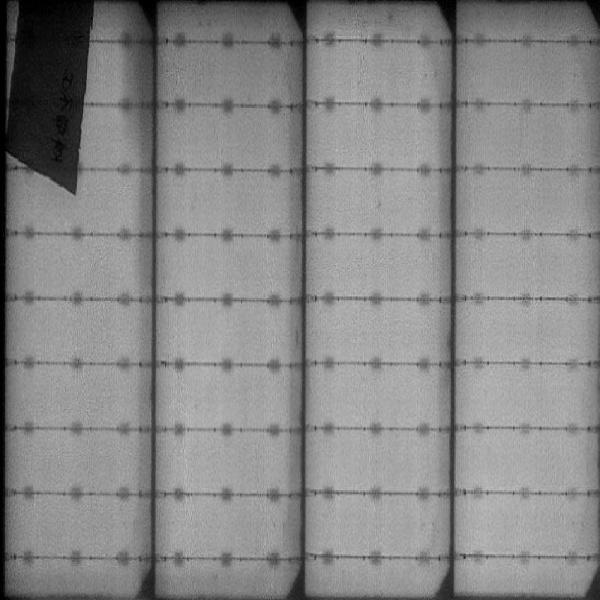broken: (7, 1, 93, 200)
